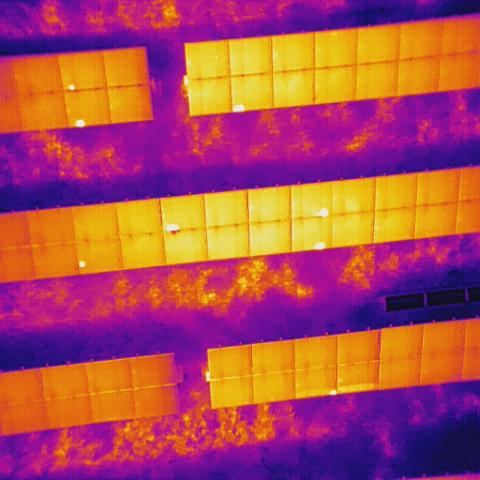fault: (338, 386, 374, 392), (313, 240, 326, 252), (230, 104, 246, 113), (165, 222, 181, 231), (318, 207, 330, 218), (74, 118, 85, 128), (77, 258, 86, 268), (67, 81, 75, 92), (329, 388, 336, 396), (338, 377, 345, 382)
